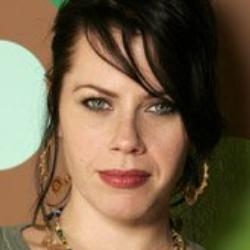face: (28, 3, 235, 225)
